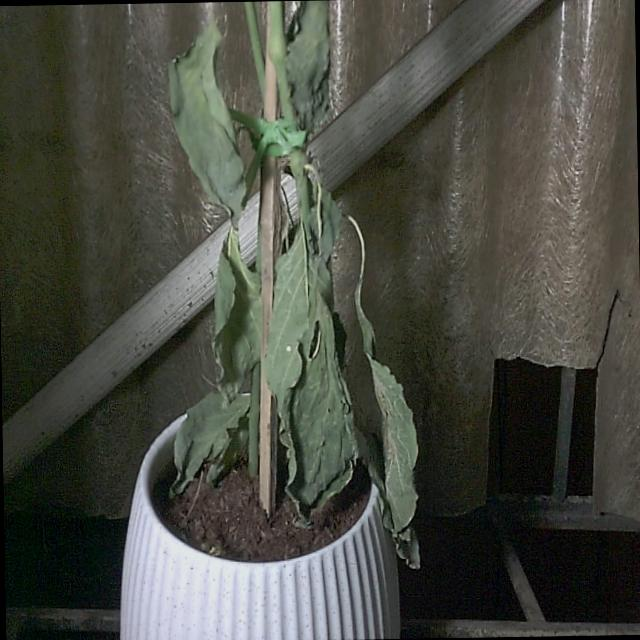Leaf: (276, 242, 361, 528), (356, 281, 422, 571)
